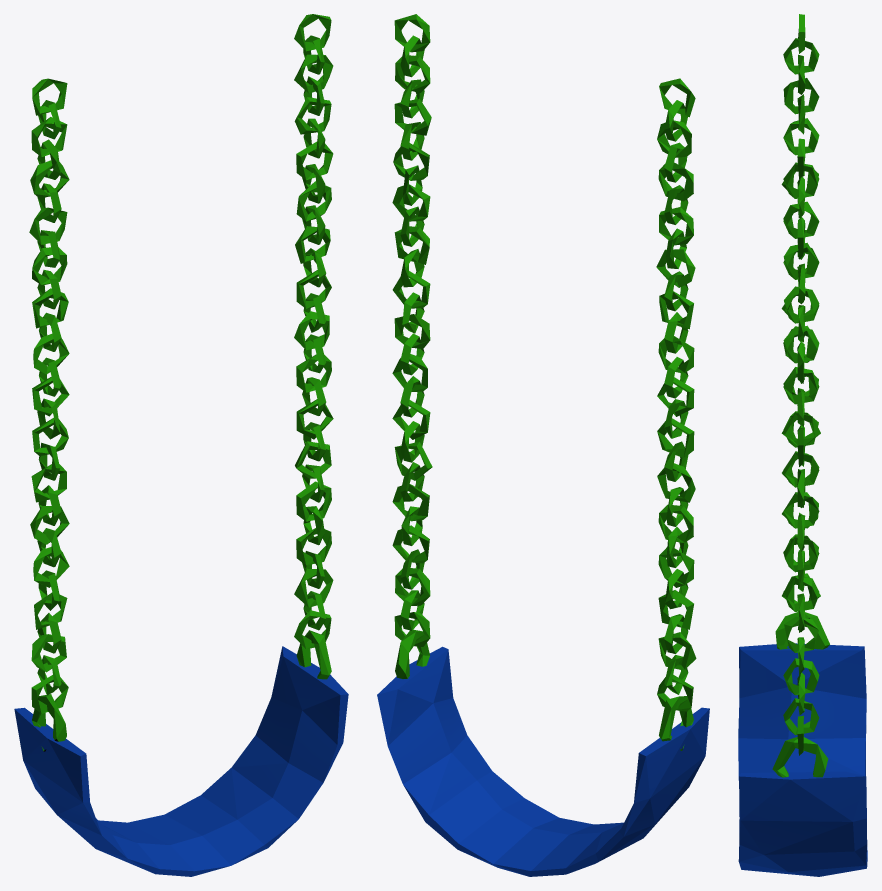
Rendered from soloSwing.fbx.
The picture shows the model from 3 angles, left to right: view 1: azimuth 30°, elevation 25°; view 2: azimuth 150°, elevation 25°; view 3: azimuth 270°, elevation 25°; orthographic projection. The views are drawn at different scales.
Parts seen in each view (by area): view 1: Swing; view 2: Swing; view 3: Swing.
Part boxes in pixels (x1=…): Swing: x1=14, y1=14, x2=348, y2=876; Swing: x1=377, y1=14, x2=709, y2=876; Swing: x1=738, y1=14, x2=867, y2=876.
Bounding box in the file's own units: 68.09 × 174 × 26.16.
